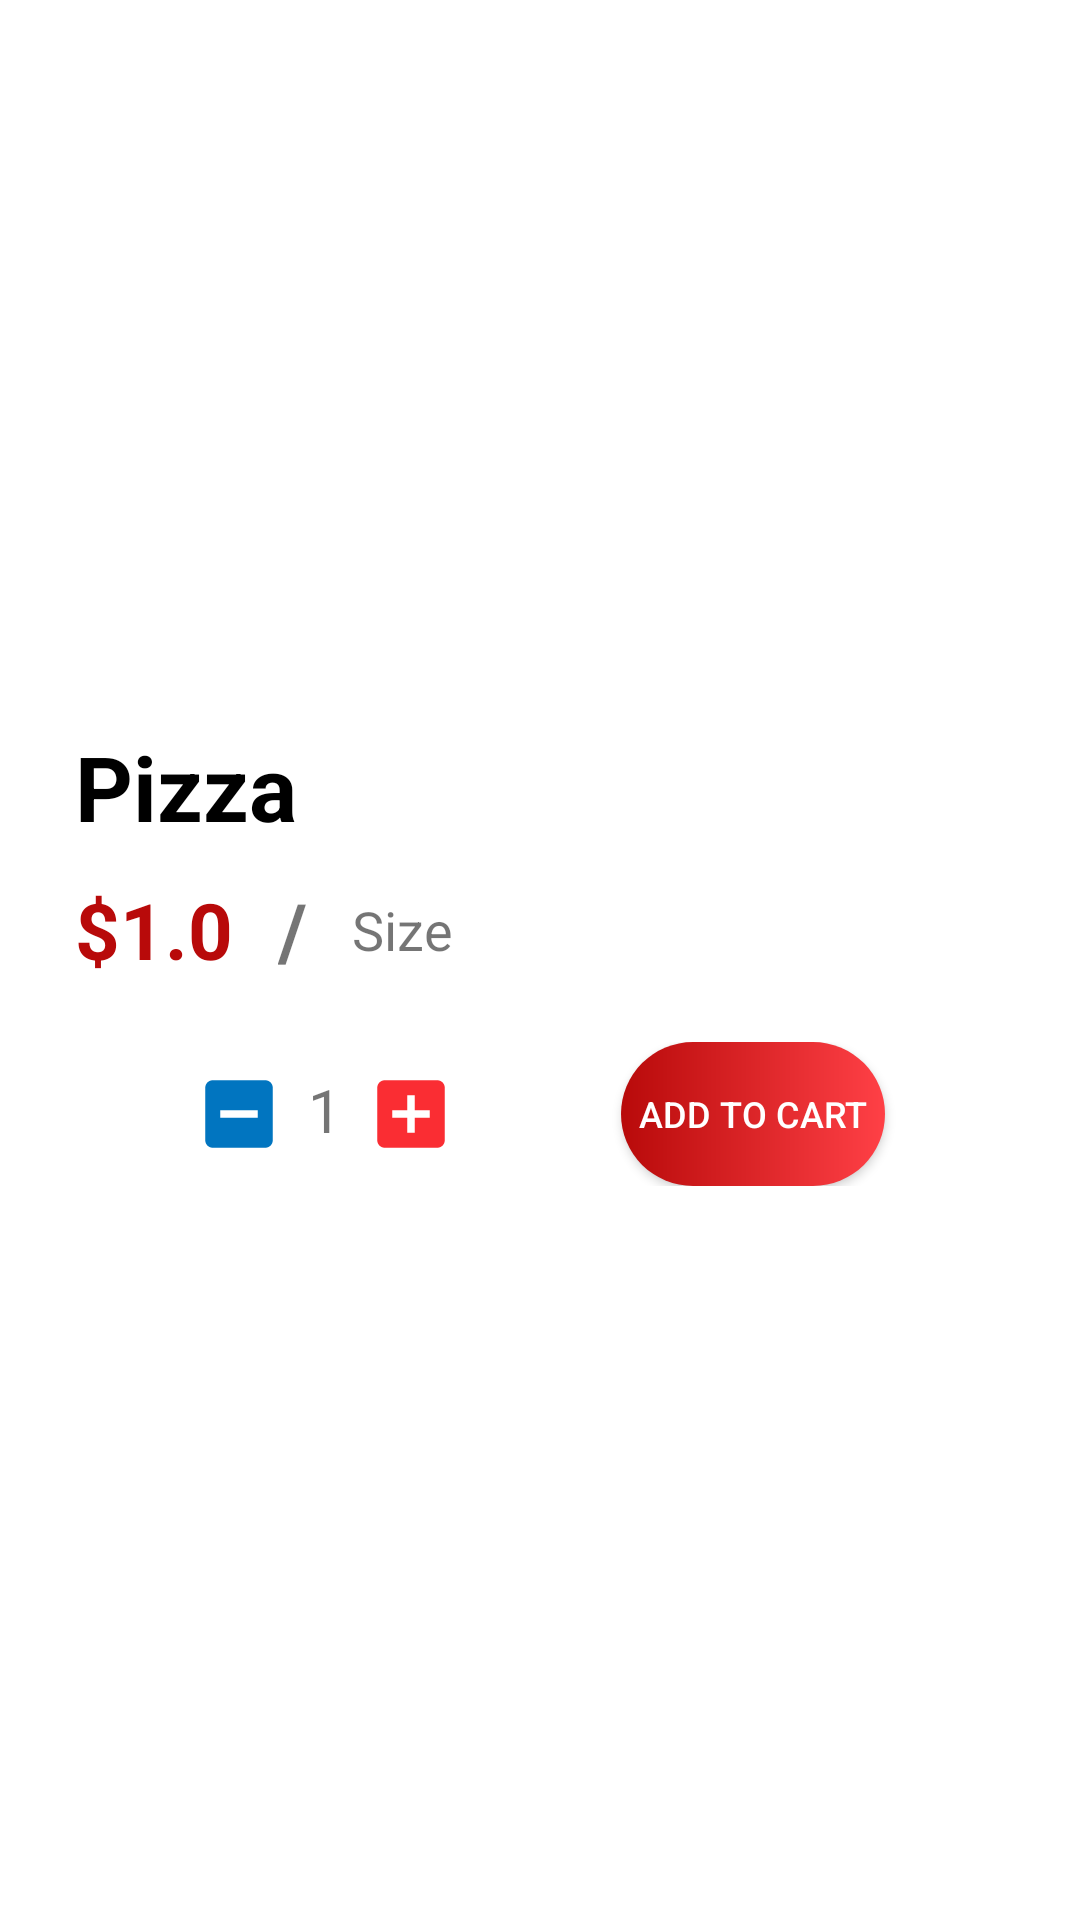

Point at icon controls on the screen. Image size 1080 × 1920, points as (x,y).
add box: (411,1114)
indeterminate check box: (239,1114)
